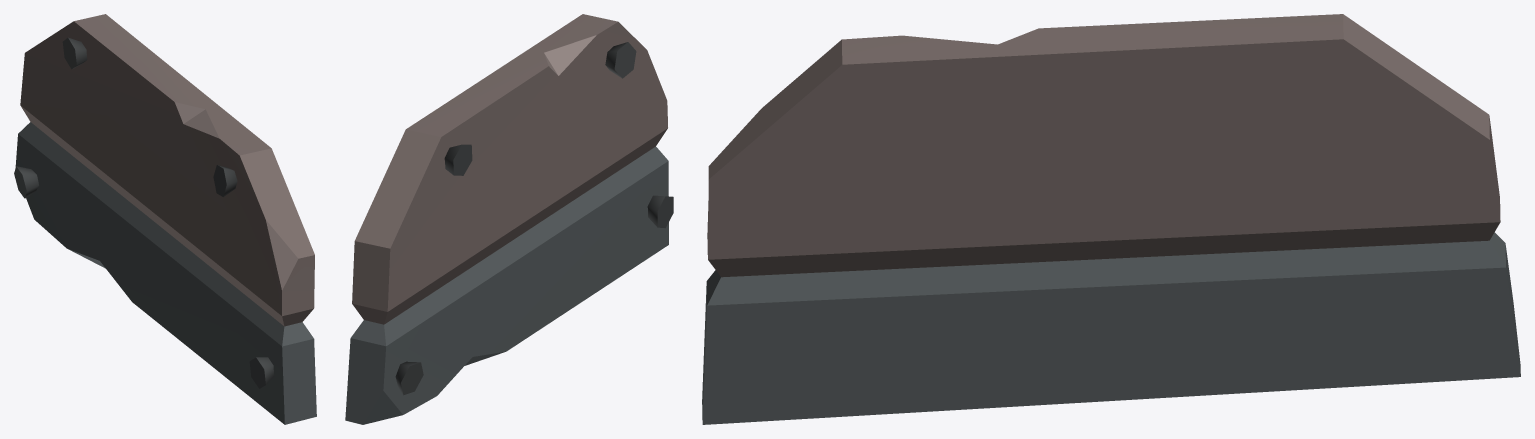
The model's file is Apocalypse_Car_01_Armor_04.fbx.
3 views of the same model, side by side, from view 1: azimuth 30°, elevation 25°; view 2: azimuth 150°, elevation 25°; view 3: azimuth 270°, elevation 25° (orthographic). The views are drawn at different scales.
Parts seen in each view (by area): view 1: Apocalypse_Car_01_Armor_04; view 2: Apocalypse_Car_01_Armor_04; view 3: Apocalypse_Car_01_Armor_04.
Boxes of the visible parts, x1,y1,x2,y2 form: Apocalypse_Car_01_Armor_04: (14, 14, 316, 424); Apocalypse_Car_01_Armor_04: (345, 14, 673, 424); Apocalypse_Car_01_Armor_04: (702, 14, 1520, 424).
Bounding box in the file's own units: 10.94 × 98.78 × 51.34.
